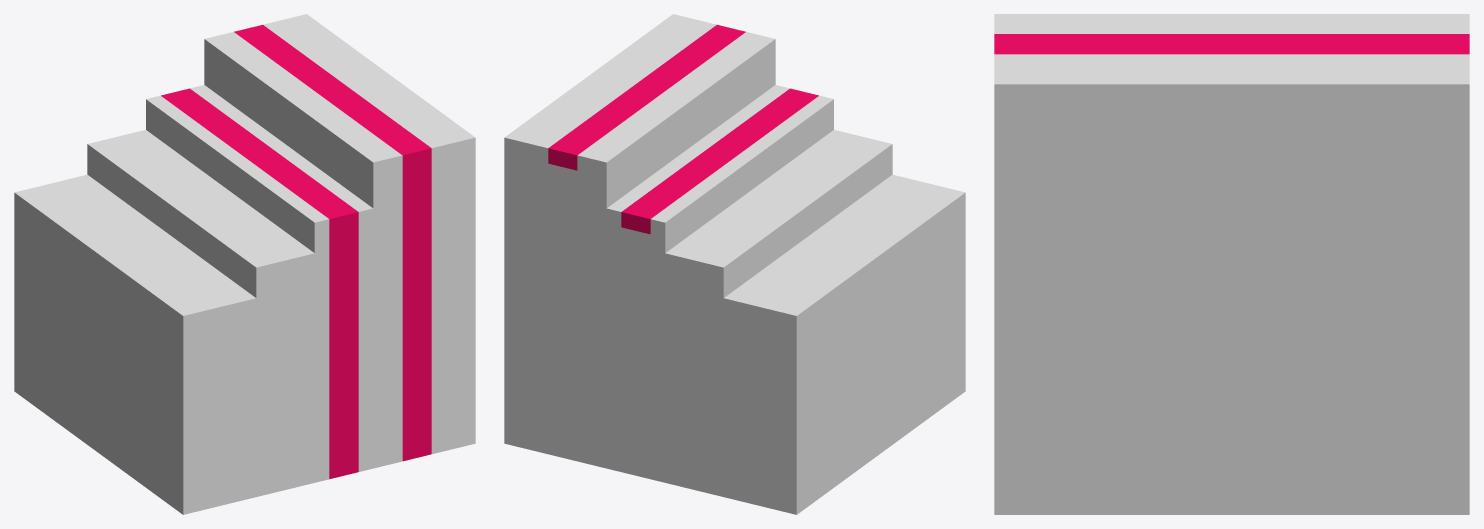
File: DoorLeftTop.FBX
3 renders of one model, left to right at view 1: azimuth 30°, elevation 25°; view 2: azimuth 150°, elevation 25°; view 3: azimuth 270°, elevation 25°, orthographic. The views are drawn at different scales.
Visible parts, largest first — view 1: LadoIzqPuertaArr; view 2: LadoIzqPuertaArr; view 3: LadoIzqPuertaArr.
Boxes of the visible parts, left/top/right/bottom form: LadoIzqPuertaArr: left=14, top=14, right=475, bottom=514; LadoIzqPuertaArr: left=504, top=14, right=965, bottom=514; LadoIzqPuertaArr: left=994, top=14, right=1469, bottom=514.
Bounding box in the file's own units: 1 × 1 × 1.
Materials: 1 (1 with a texture image).
